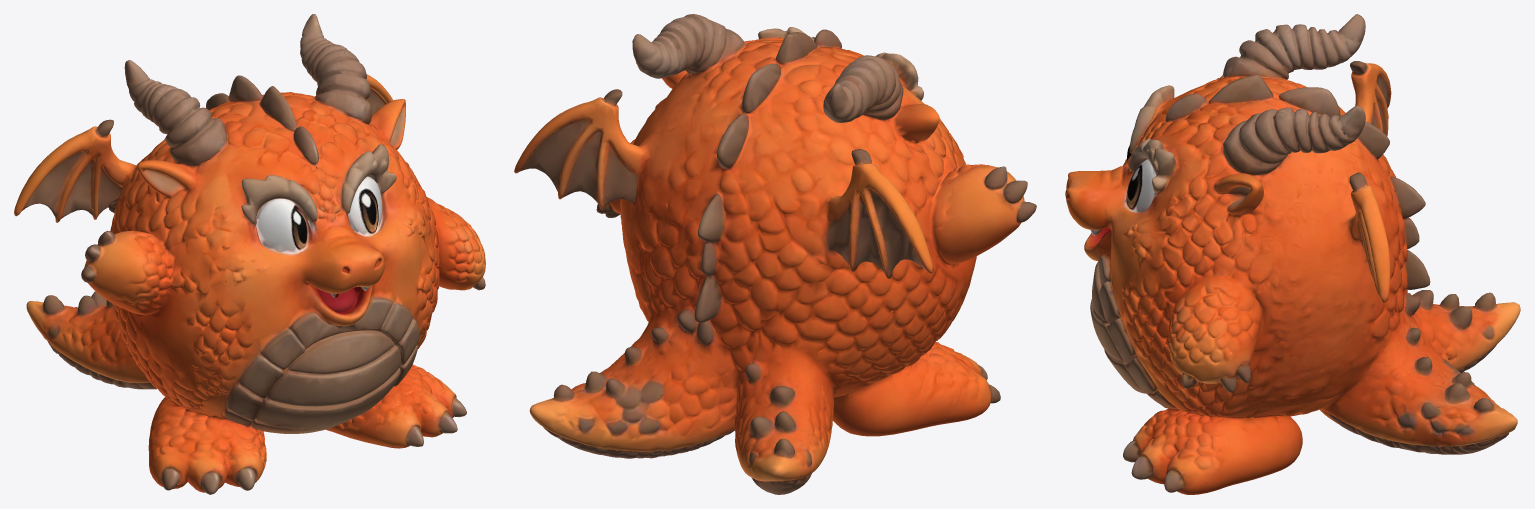
Rendered from dragon.glb.
The picture shows the model from 3 angles, left to right: view 1: azimuth 30°, elevation 25°; view 2: azimuth 150°, elevation 25°; view 3: azimuth 270°, elevation 25°; orthographic projection. The views are drawn at different scales.
Visible parts, largest first — view 1: model; view 2: model; view 3: model.
Part boxes in pixels (x1,y1,x2,y2): model: (14, 14, 485, 494); model: (514, 14, 1036, 494); model: (1065, 14, 1520, 494).
Bounding box in the file's own units: 1.9 × 1.62 × 1.83.
Materials: 1 (1 with a texture image).
